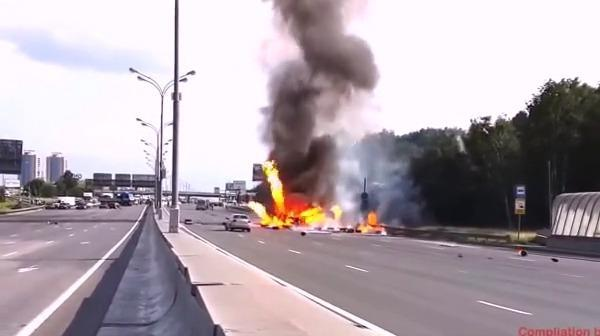fire: (246, 159, 346, 232), (358, 208, 385, 235)
